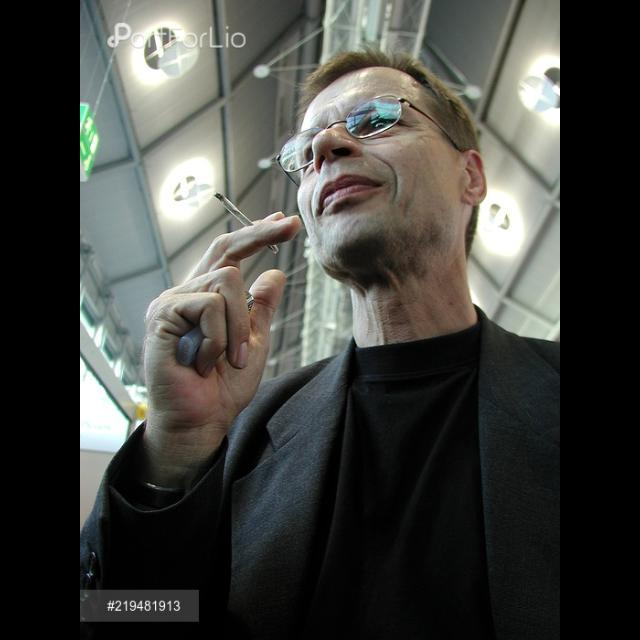rokok: (213, 187, 254, 227)
